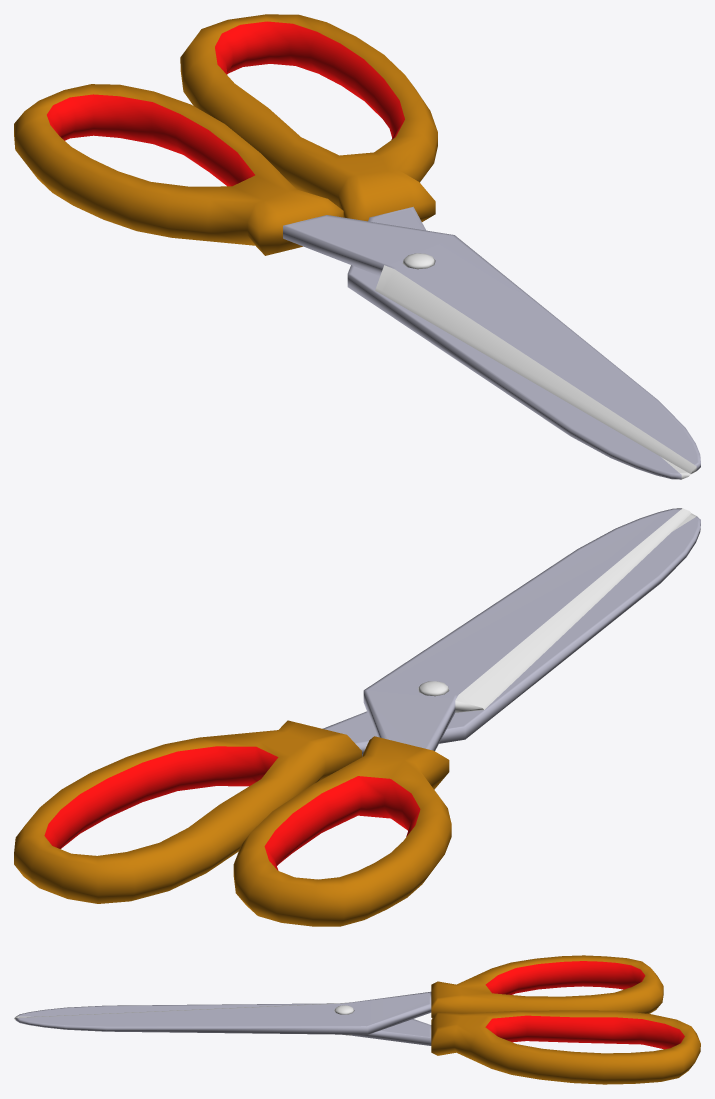
The model's file is scrissors.FBX.
The picture shows the model from 3 angles, top to bottom: view 1: azimuth 30°, elevation 25°; view 2: azimuth 150°, elevation 25°; view 3: azimuth 270°, elevation 25°; orthographic projection. The views are drawn at different scales.
Visible parts, largest first — view 1: scrissors, scrissors-child; view 2: scrissors, scrissors-child; view 3: scrissors, scrissors-child.
Part boxes in pixels (<box>): scrissors: <box>14,84,700,473</box>; scrissors-child: <box>180,14,690,479</box>; scrissors: <box>233,508,691,926</box>; scrissors-child: <box>14,513,700,903</box>; scrissors: <box>14,955,663,1034</box>; scrissors-child: <box>15,1003,700,1084</box>.
Bounding box in the file's own units: 936 × 116 × 2505.
